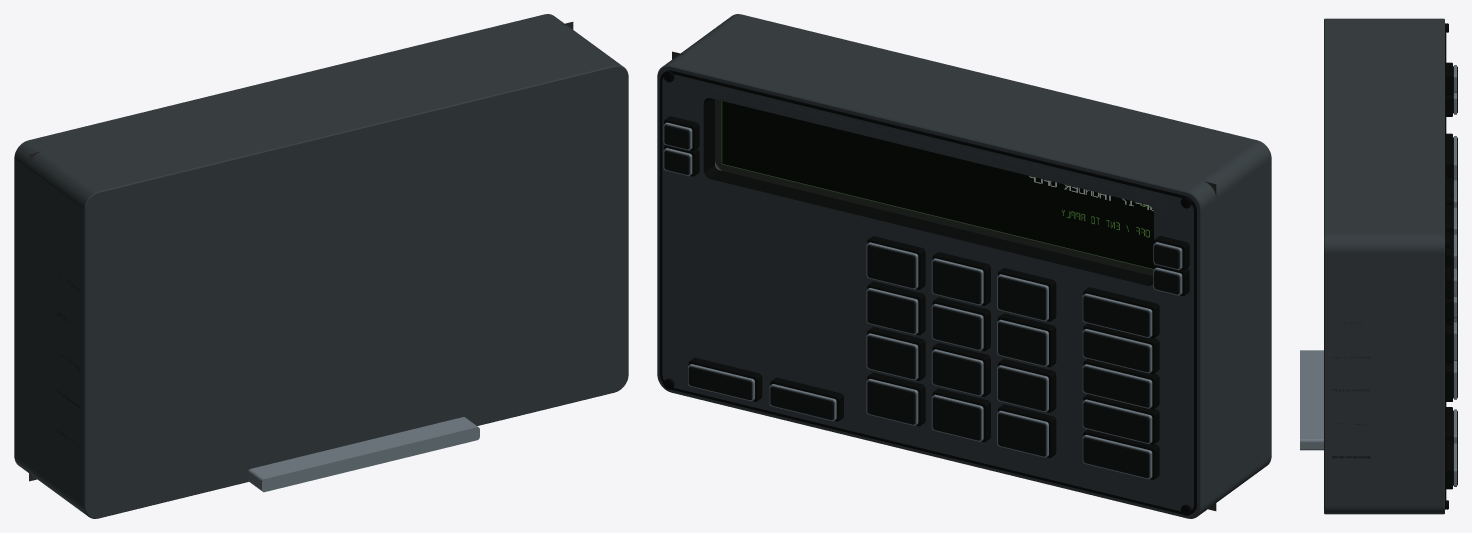
Rendered from MFDStudio.obj.
3 views of the same model, side by side, from view 1: azimuth 30°, elevation 25°; view 2: azimuth 150°, elevation 25°; view 3: azimuth 270°, elevation 25° (orthographic). The views are drawn at different scales.
Parts seen in each view (by area): view 1: MFDStudioBody; view 2: MFDStudioBody, MFDStudioScreen, MFDStudioKey13, MFDStudioKey16, MFDStudioKey12, MFDStudioKey14, MFDStudioKey15, MFDStudioKey5, MFDStudioKey4, MFDStudioKey11, MFDStudioKey0, MFDStudioKey1 (+9 smaller); view 3: MFDStudioBody.
Boxes of the visible parts, x1,y1,x2,y2 form: MFDStudioBody: (14,14,628,518); MFDStudioBody: (657,14,1271,518); MFDStudioScreen: (672,51,1216,510); MFDStudioKey13: (1083,331,1149,372); MFDStudioKey16: (1083,437,1149,478); MFDStudioKey12: (1083,296,1149,336); MFDStudioKey14: (1083,366,1149,407); MFDStudioKey15: (1083,402,1149,442); MFDStudioKey5: (867,290,915,333); MFDStudioKey4: (932,306,980,349); MFDStudioKey11: (867,381,915,424); MFDStudioKey0: (998,277,1046,320); MFDStudioKey1: (932,261,980,304); MFDStudioBody: (1300,18,1456,514).
Bounding box in the file's own units: 0.27 × 0.155 × 0.0795.
10 materials, 1 textured.
